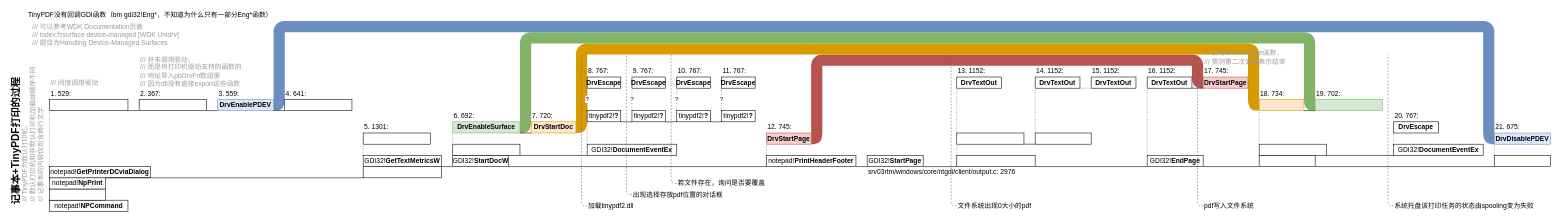
This 1560x221 diagram has some shape labels left out. Here are the shapes that lost their labels. From the top down, the centre of each, then its label:
At (x=88, y=105): "UMPDDrvEnableDriver".
At (x=172, y=105): "INDEX_UMDriverFN".
At (x=318, y=105): "DrvCompletePDEV".
At (x=1281, y=105): "DrvEndDoc".
At (x=1348, y=105): "DrvDisableSurface".
At (x=396, y=138): "DrvGetGlyphMode".
At (x=486, y=149): "GDI32! NtGdiStartDoc".
At (x=990, y=138): "DT_InitDrawTextInfo".
At (x=1063, y=138): "ExtSelectClipRgn".
At (x=1292, y=149): "GDI32! NtGdiEndDoc".
At (x=402, y=172): "notepad! NpPrintGivenDC".
At (x=995, y=161): "notepad! DrawTextExW".
At (x=1287, y=161): "GDI32! EndDoc".
At (x=1522, y=161): "GDI32! DeleteDC".
At (x=77, y=194): "notepad! PrintIt".
